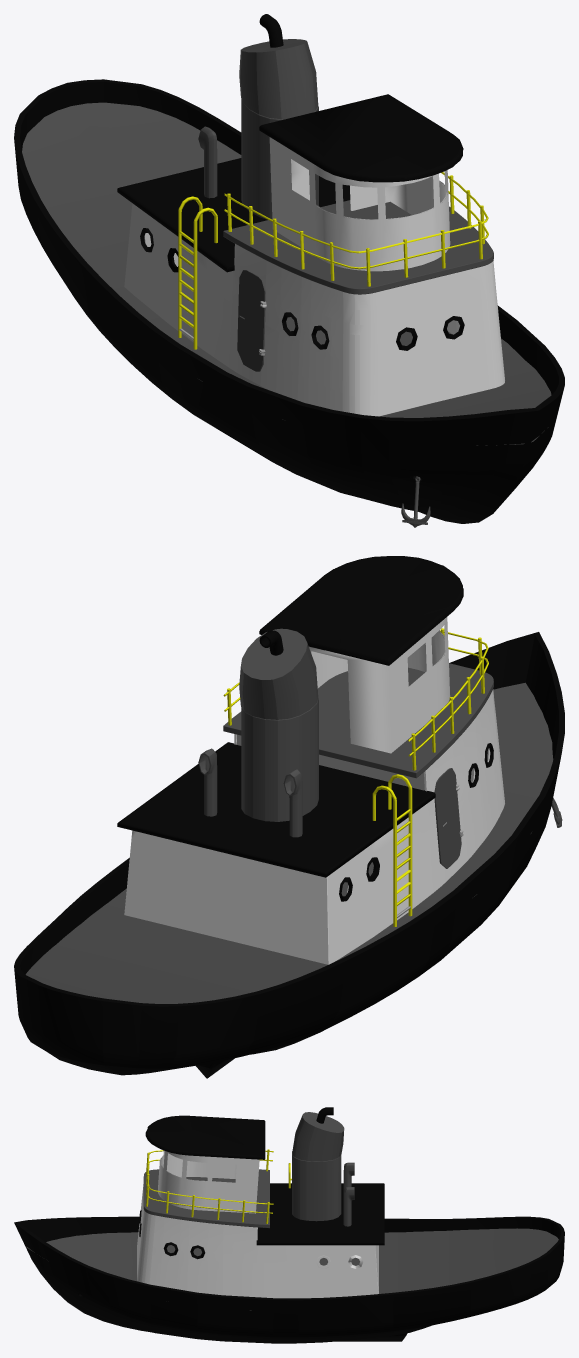
File: boat.fbx
The picture shows the model from 3 angles, top to bottom: view 1: azimuth 30°, elevation 25°; view 2: azimuth 150°, elevation 25°; view 3: azimuth 270°, elevation 25°; orthographic projection. The views are drawn at different scales.
Parts seen in each view (by area): view 1: polySurface123, polySurface100, polySurface126, polySurface34, polySurface74, polySurface76, polySurface75, _boat_v2_L2:boat_elements_01_black, polySurface110, polySurface105, polySurface121, polySurface62 (+3 smaller); view 2: polySurface123, polySurface100, polySurface126, polySurface75, polySurface74, polySurface34, polySurface76, polySurface110, _boat_v2_L2:boat_elements_01_black, polySurface105, polySurface109, polySurface121 (+3 smaller); view 3: polySurface123, polySurface100, polySurface126, polySurface75, polySurface34, polySurface74, polySurface110, polySurface76, _boat_v2_L2:boat_elements_01_black, polySurface122, polySurface43.
Boxes of the visible parts, bbox=[...] form: polySurface123: bbox=[14, 79, 564, 523]; polySurface100: bbox=[124, 203, 504, 416]; polySurface126: bbox=[22, 102, 551, 445]; polySurface34: bbox=[269, 137, 450, 271]; polySurface74: bbox=[259, 94, 463, 182]; polySurface76: bbox=[223, 200, 493, 294]; polySurface75: bbox=[117, 158, 350, 272]; _boat_v2_L2:boat_elements_01_black: bbox=[239, 39, 318, 119]; polySurface110: bbox=[241, 99, 318, 219]; polySurface105: bbox=[237, 270, 265, 371]; polySurface121: bbox=[198, 126, 217, 198]; polySurface62: bbox=[193, 207, 217, 349]; polySurface123: bbox=[14, 632, 564, 1078]; polySurface100: bbox=[124, 689, 504, 964]; polySurface126: bbox=[25, 682, 553, 1003]; polySurface75: bbox=[117, 742, 435, 877]; polySurface74: bbox=[259, 556, 463, 665]; polySurface34: bbox=[309, 617, 450, 753]; polySurface76: bbox=[223, 663, 493, 778]; polySurface110: bbox=[241, 698, 318, 821]; _boat_v2_L2:boat_elements_01_black: bbox=[239, 628, 318, 719]; polySurface105: bbox=[434, 768, 461, 868]; polySurface109: bbox=[236, 734, 424, 790]; polySurface121: bbox=[283, 769, 302, 837]; polySurface123: bbox=[14, 1216, 564, 1343]; polySurface100: bbox=[137, 1184, 378, 1298]; polySurface126: bbox=[26, 1228, 558, 1310]; polySurface75: bbox=[256, 1183, 384, 1245]; polySurface34: bbox=[158, 1150, 259, 1213]; polySurface74: bbox=[145, 1115, 265, 1159]; polySurface110: bbox=[292, 1151, 341, 1221]; polySurface76: bbox=[143, 1169, 269, 1228]; _boat_v2_L2:boat_elements_01_black: bbox=[292, 1112, 344, 1161]; polySurface122: bbox=[343, 1187, 354, 1226]; polySurface43: bbox=[147, 1150, 273, 1204].
Size of the model in its own units: 433 by 585 by 1248.
